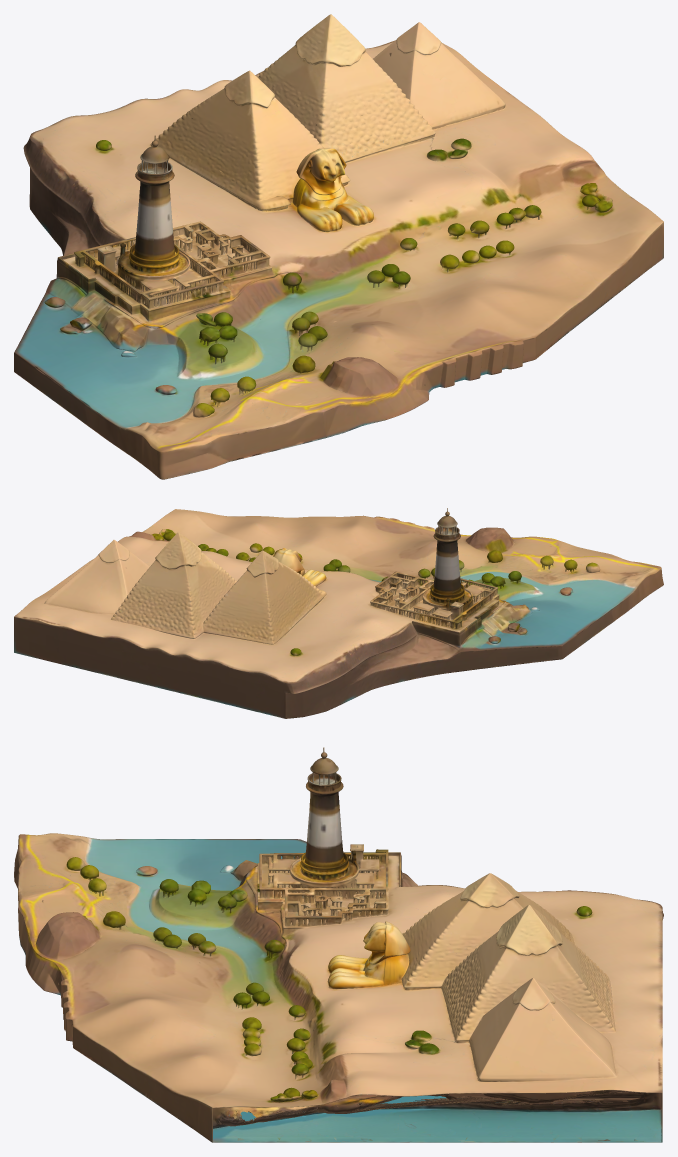
The model's file is alexandria.glb.
The picture shows the model from 3 angles, top to bottom: view 1: azimuth 30°, elevation 25°; view 2: azimuth 150°, elevation 25°; view 3: azimuth 270°, elevation 25°; orthographic projection. The views are drawn at different scales.
Visible parts, largest first — view 1: node_0; view 2: node_0; view 3: node_0.
Boxes of the visible parts, x1,y1,x2,y2 form: node_0: [14, 14, 663, 479]; node_0: [14, 508, 663, 718]; node_0: [14, 747, 663, 1142].
Bounding box in the file's own units: 0.8482 × 0.2551 × 0.8184.
1 material, 1 textured.
